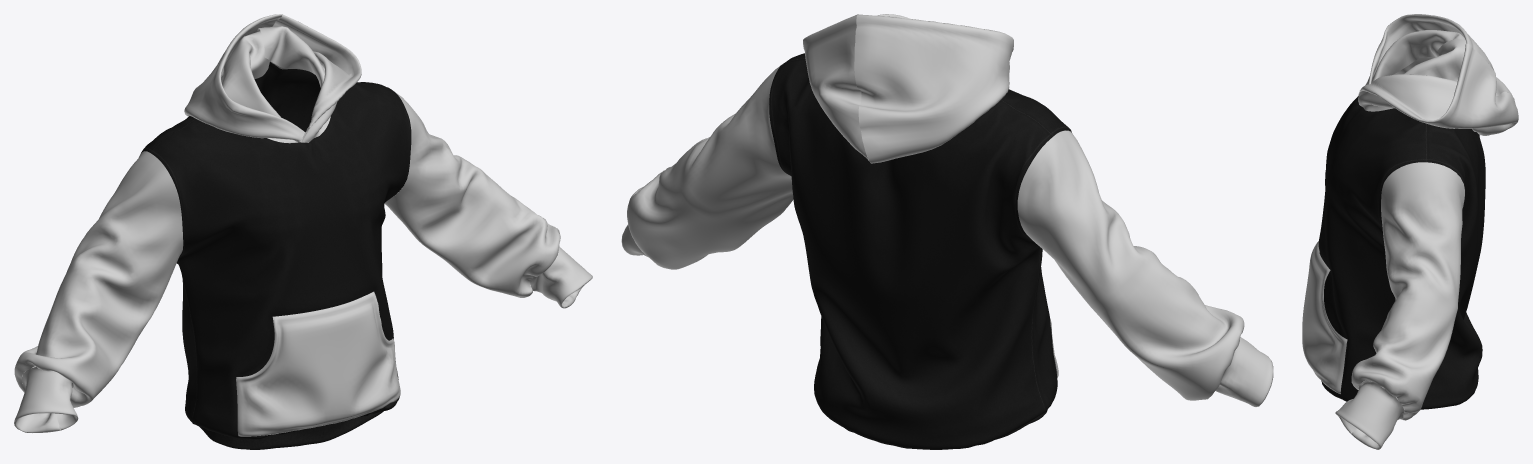
The picture shows the model from 3 angles, left to right: view 1: azimuth 30°, elevation 25°; view 2: azimuth 150°, elevation 25°; view 3: azimuth 270°, elevation 25°; orthographic projection. The views are drawn at different scales.
Parts seen in each view (by area): view 1: Hoodie_Part2, Hoodie_Part1; view 2: Hoodie_Part1, Hoodie_Part2; view 3: Hoodie_Part2, Hoodie_Part1.
Part boxes in pixels (<box>): Hoodie_Part2: <box>14,14,592,436</box>; Hoodie_Part1: <box>141,62,411,449</box>; Hoodie_Part1: <box>769,53,1071,449</box>; Hoodie_Part2: <box>621,14,1273,406</box>; Hoodie_Part2: <box>1302,14,1518,449</box>; Hoodie_Part1: <box>1318,95,1485,409</box>.
Size of the model in its own units: 1.27 by 0.794 by 0.4405.
